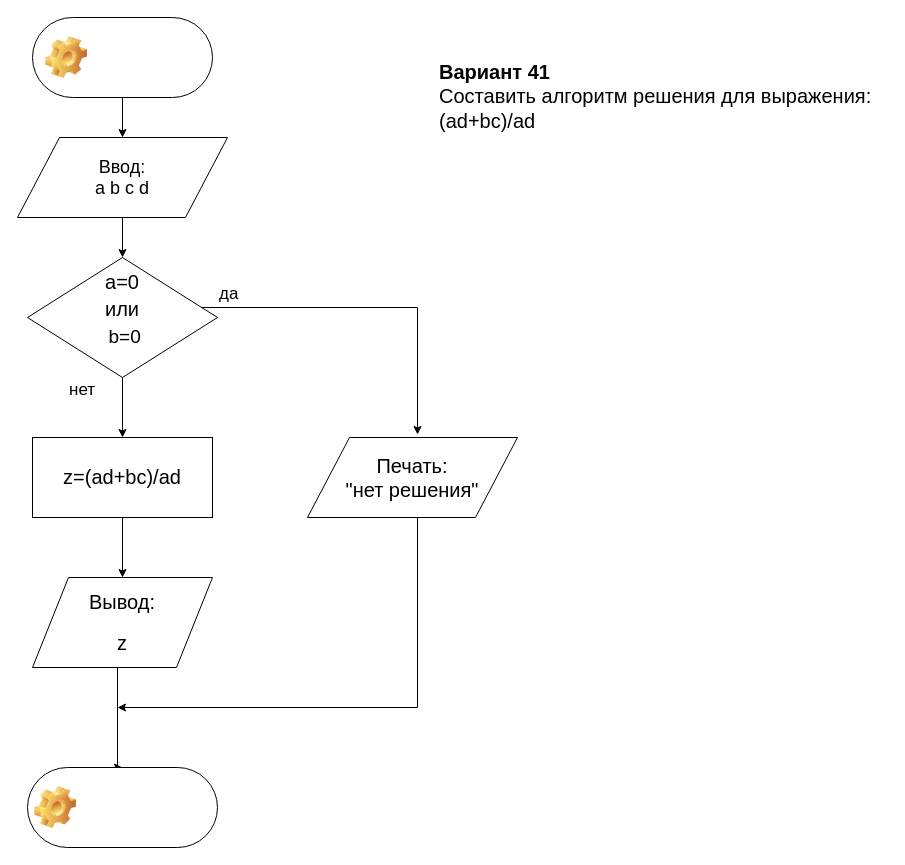
Some shapes in this 905 by 865 pixel diagram are drawn without their labels. The shapes that lost their labels are listed below. From the top down, each one's centre as x and y in pixels, then its label:
point (122, 57): Начало
point (122, 807): Конец
